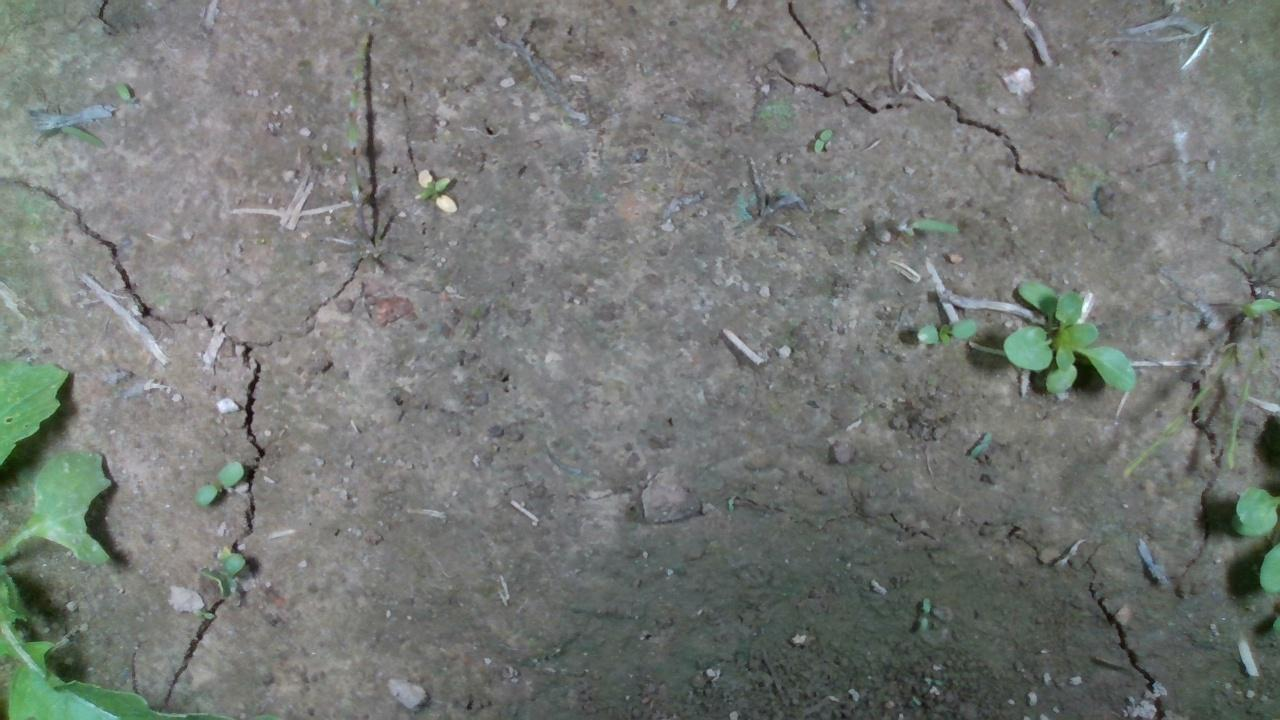weed: (195, 459, 245, 505), (411, 166, 457, 212), (914, 316, 978, 345), (811, 125, 832, 155)
